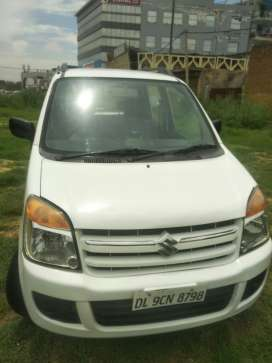nameplate: (133, 284, 206, 311)
